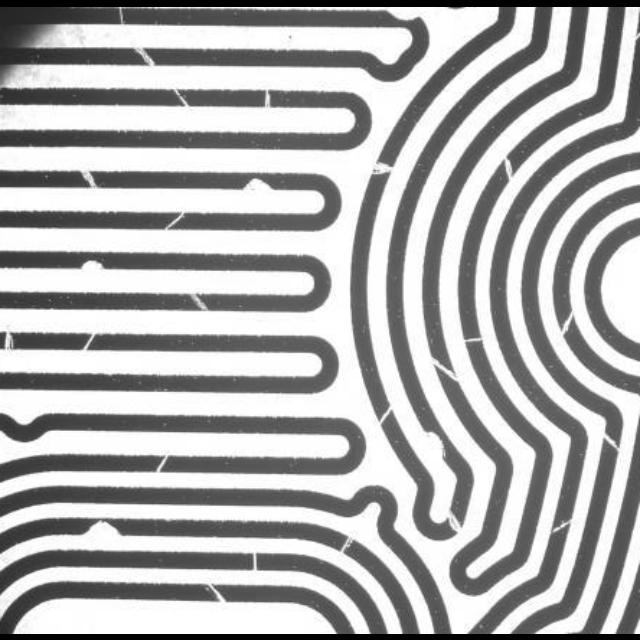break: (421, 342, 464, 390), (66, 163, 108, 200), (178, 284, 216, 324), (167, 80, 210, 114), (595, 419, 631, 459), (246, 78, 282, 115), (146, 440, 176, 482), (490, 154, 526, 188), (164, 201, 192, 241), (365, 148, 401, 178), (555, 297, 577, 345), (332, 518, 358, 558), (436, 506, 466, 540), (371, 398, 401, 432), (539, 518, 587, 538), (0, 322, 28, 356), (74, 326, 102, 358), (245, 538, 265, 580), (134, 40, 160, 72), (455, 327, 491, 349), (198, 578, 224, 608), (108, 9, 136, 33)
over-etching: (77, 508, 145, 548), (371, 6, 437, 34), (233, 166, 281, 202), (420, 422, 452, 464), (76, 253, 118, 279)
